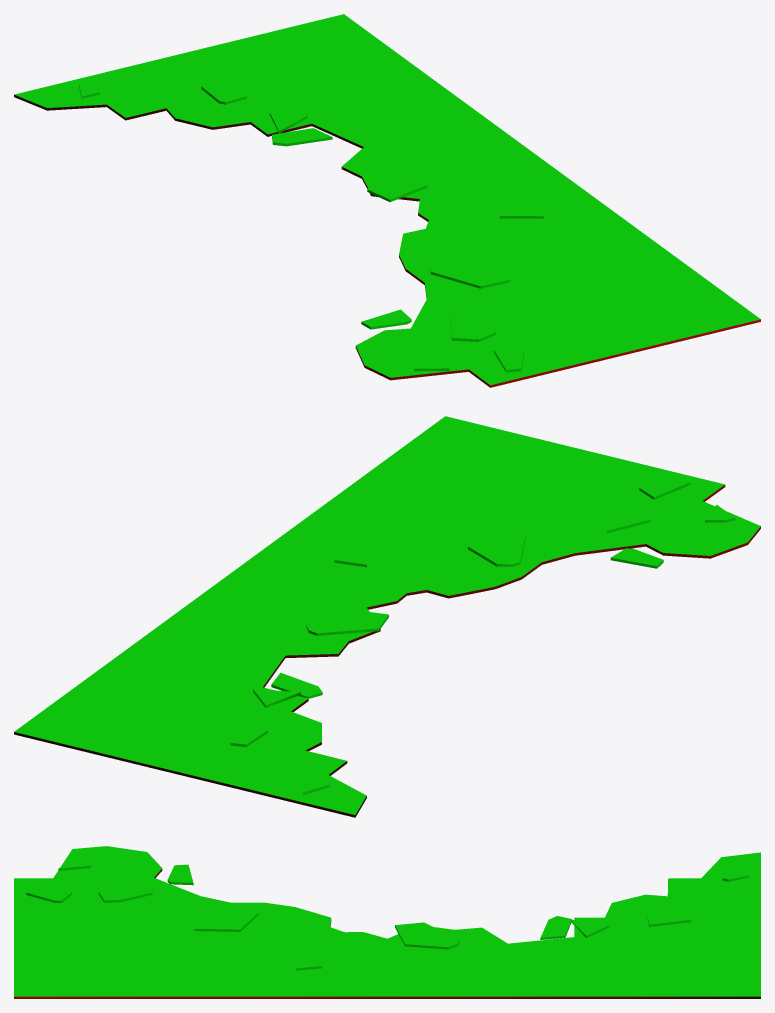
The model's file is DBK_Tile_Floor_Side_D_Mirror.fbx.
The picture shows the model from 3 angles, top to bottom: view 1: azimuth 30°, elevation 25°; view 2: azimuth 150°, elevation 25°; view 3: azimuth 270°, elevation 25°; orthographic projection. The views are drawn at different scales.
Parts seen in each view (by area): view 1: DBK_Tile_Floor_Side_D_Mirror; view 2: DBK_Tile_Floor_Side_D_Mirror; view 3: DBK_Tile_Floor_Side_D_Mirror.
Part boxes in pixels (x1,y1,x2,y2): DBK_Tile_Floor_Side_D_Mirror: [14, 14, 760, 387]; DBK_Tile_Floor_Side_D_Mirror: [14, 416, 760, 817]; DBK_Tile_Floor_Side_D_Mirror: [14, 846, 760, 998].
Size of the model in its own units: 143 by 2.1 by 300.
